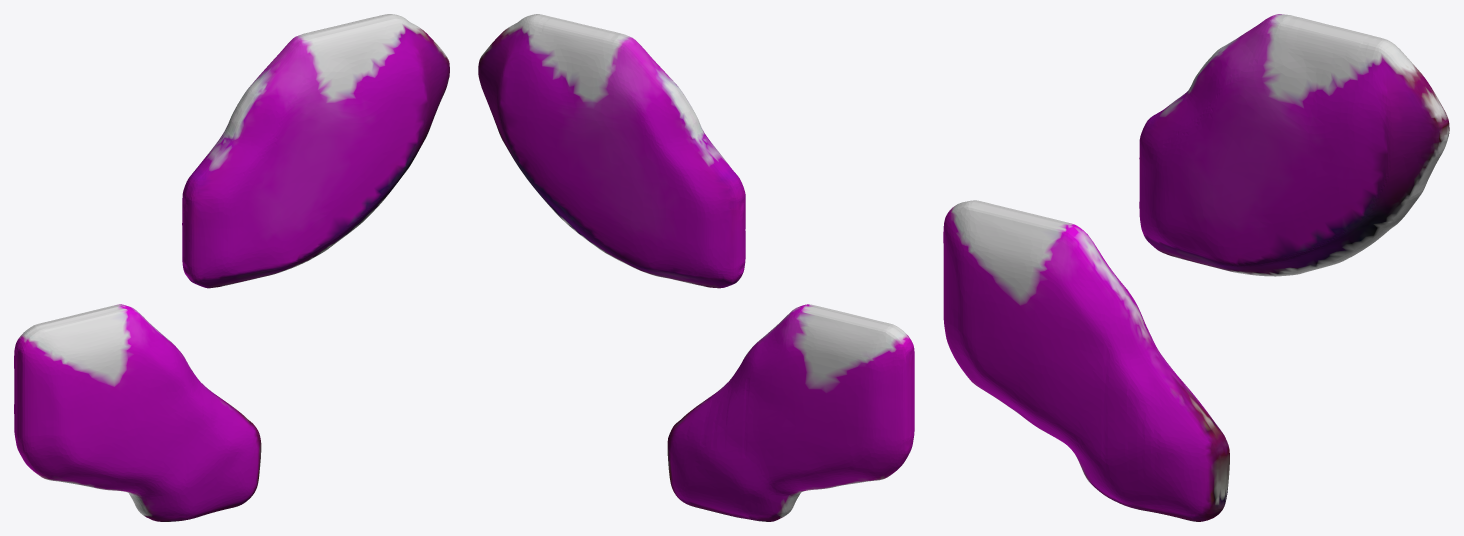
File: amethyst.glb
3 renders of one model, left to right at view 1: azimuth 30°, elevation 25°; view 2: azimuth 150°, elevation 25°; view 3: azimuth 330°, elevation 25°, orthographic. The views are drawn at different scales.
Visible parts, largest first — view 1: geometry_0; view 2: geometry_0; view 3: geometry_0.
Part boxes in pixels (box(x1,y1,x2,y2)): geometry_0: box(14, 14, 449, 521); geometry_0: box(478, 14, 914, 521); geometry_0: box(943, 14, 1449, 521).
Bounding box in the file's own units: 0.624 × 0.625 × 0.0913.
